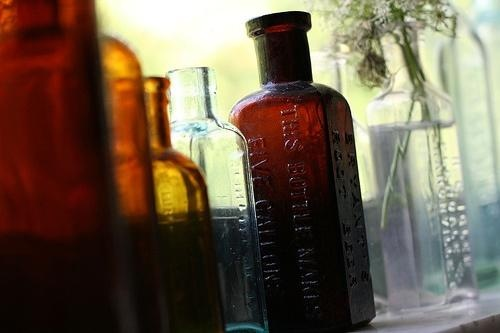bottle: (229, 15, 379, 331), (359, 15, 480, 322), (162, 54, 260, 333), (137, 71, 233, 332)
